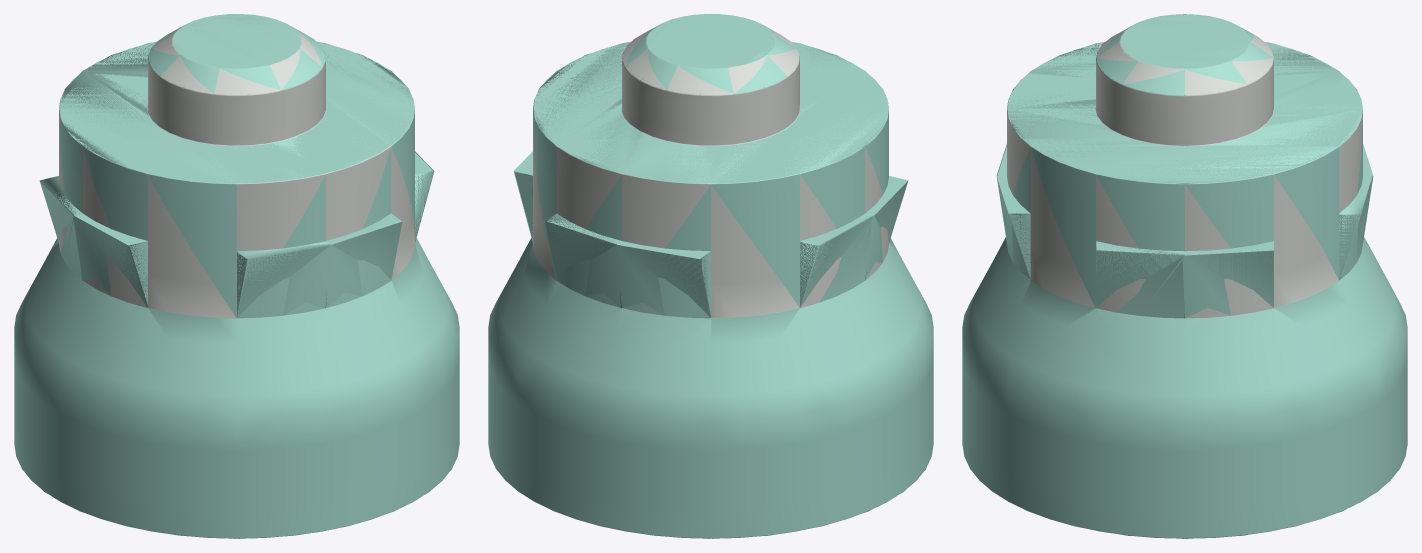
File: tower-defense-kit__tower-round-bottom-c.glb
The picture shows the model from 3 angles, left to right: view 1: azimuth 30°, elevation 25°; view 2: azimuth 150°, elevation 25°; view 3: azimuth 270°, elevation 25°; orthographic projection.
Visible parts, largest first — view 1: L0_accent, L0_metal, L1_accent; view 2: L0_accent, L0_metal, L1_accent; view 3: L0_accent, L0_metal, L1_accent.
Part boxes in pixels (left/top/right/bottom): L0_accent: left=14, top=14, right=459, bottom=538; L0_metal: left=59, top=28, right=414, bottom=318; L1_accent: left=22, top=14, right=451, bottom=538; L0_accent: left=488, top=14, right=933, bottom=538; L0_metal: left=533, top=25, right=888, bottom=318; L1_accent: left=496, top=14, right=925, bottom=538; L0_accent: left=962, top=14, right=1407, bottom=538; L0_metal: left=1007, top=14, right=1362, bottom=318; L1_accent: left=970, top=14, right=1399, bottom=538.
Size of the model in its own units: 1 by 1 by 1.
